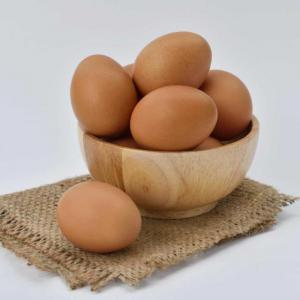Egg: (110, 81, 226, 154), (51, 176, 149, 262), (69, 44, 141, 148), (189, 58, 256, 150), (128, 27, 219, 93)
